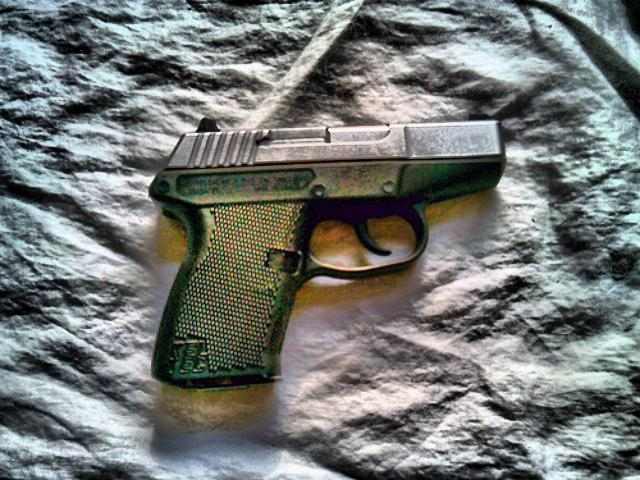pistol: (148, 118, 504, 386)
